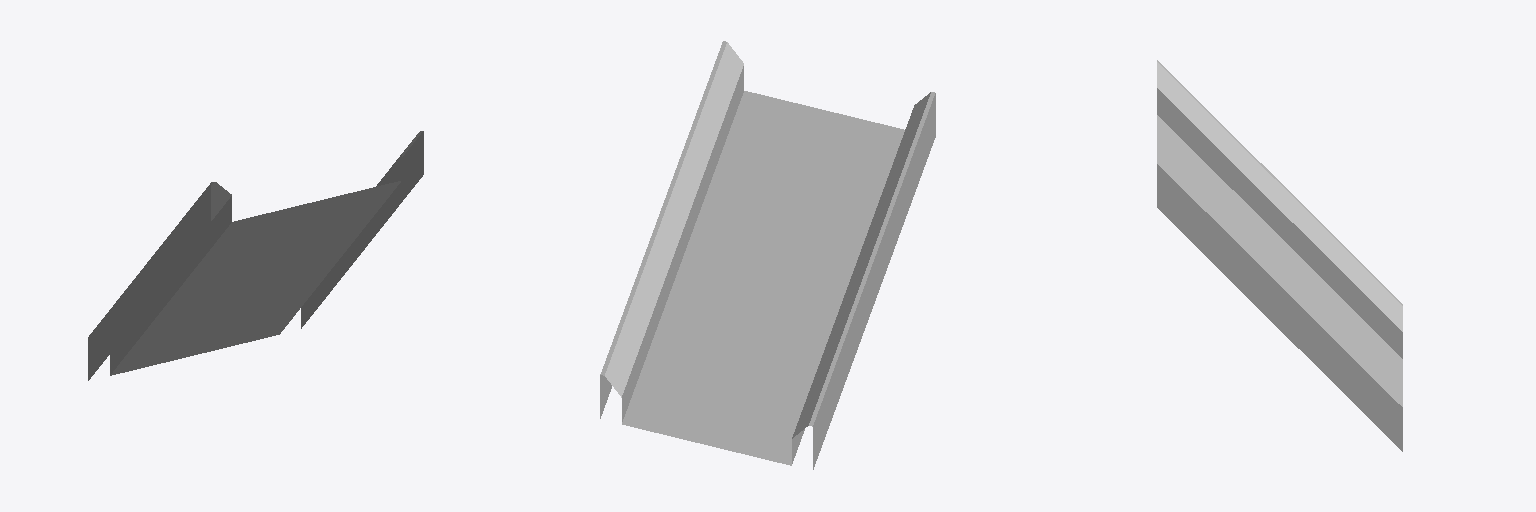
File: trackpiece4.obj
3 views of the same model, side by side, from view 1: azimuth 30°, elevation 25°; view 2: azimuth 150°, elevation 25°; view 3: azimuth 270°, elevation 25° (orthographic).
Visible parts, largest first — view 1: Plane.010_Plane.007; view 2: Plane.010_Plane.007; view 3: Plane.010_Plane.007.
Boxes of the visible parts, x1,y1,x2,y2 form: Plane.010_Plane.007: [88, 131, 423, 380]; Plane.010_Plane.007: [600, 41, 935, 469]; Plane.010_Plane.007: [1157, 60, 1402, 451].
Size of the model in its own units: 1 by 1.3 by 1.